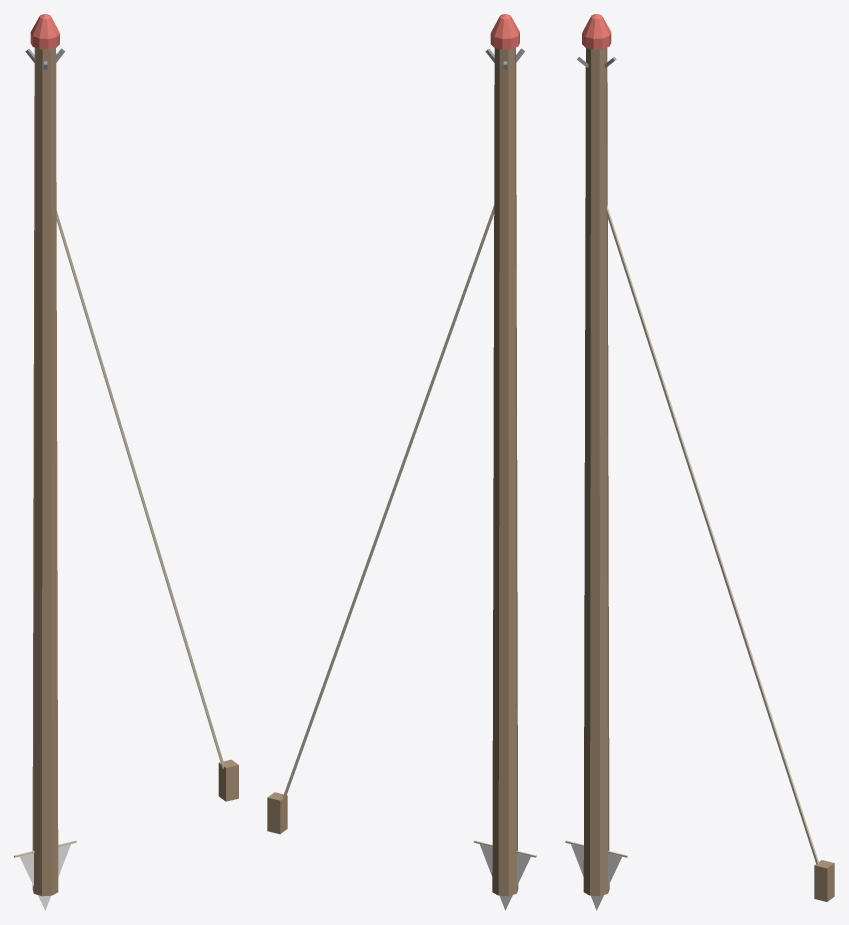
File: fair_field.glb
The picture shows the model from 3 angles, left to right: view 1: azimuth 30°, elevation 25°; view 2: azimuth 150°, elevation 25°; view 3: azimuth 330°, elevation 25°; orthographic projection.
Parts seen in each view (by area): view 1: fg_pole_mesh, fg_pennant_mesh; view 2: fg_pole_mesh, fg_pennant_mesh; view 3: fg_pole_mesh, fg_pennant_mesh.
Boxes of the visible parts, box(x1,y1,x2,y2) form: fg_pole_mesh: box(25, 14, 238, 896); fg_pennant_mesh: box(14, 840, 76, 910); fg_pole_mesh: box(267, 14, 524, 896); fg_pennant_mesh: box(474, 840, 536, 910); fg_pole_mesh: box(577, 14, 834, 901); fg_pennant_mesh: box(565, 840, 627, 910).
Bounding box in the file's own units: 1.89 × 6.67 × 0.4853.
